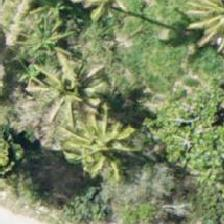coconut_tree: (59, 107, 149, 197), (21, 48, 111, 138)
